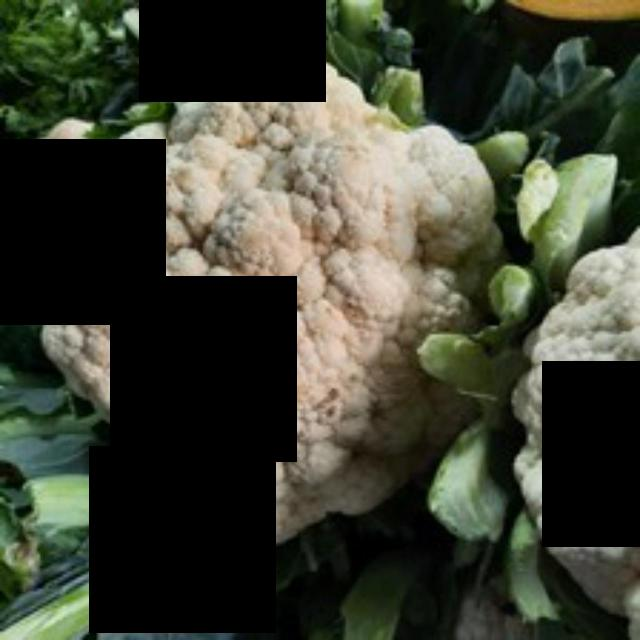cauliflower: (33, 50, 536, 558)
